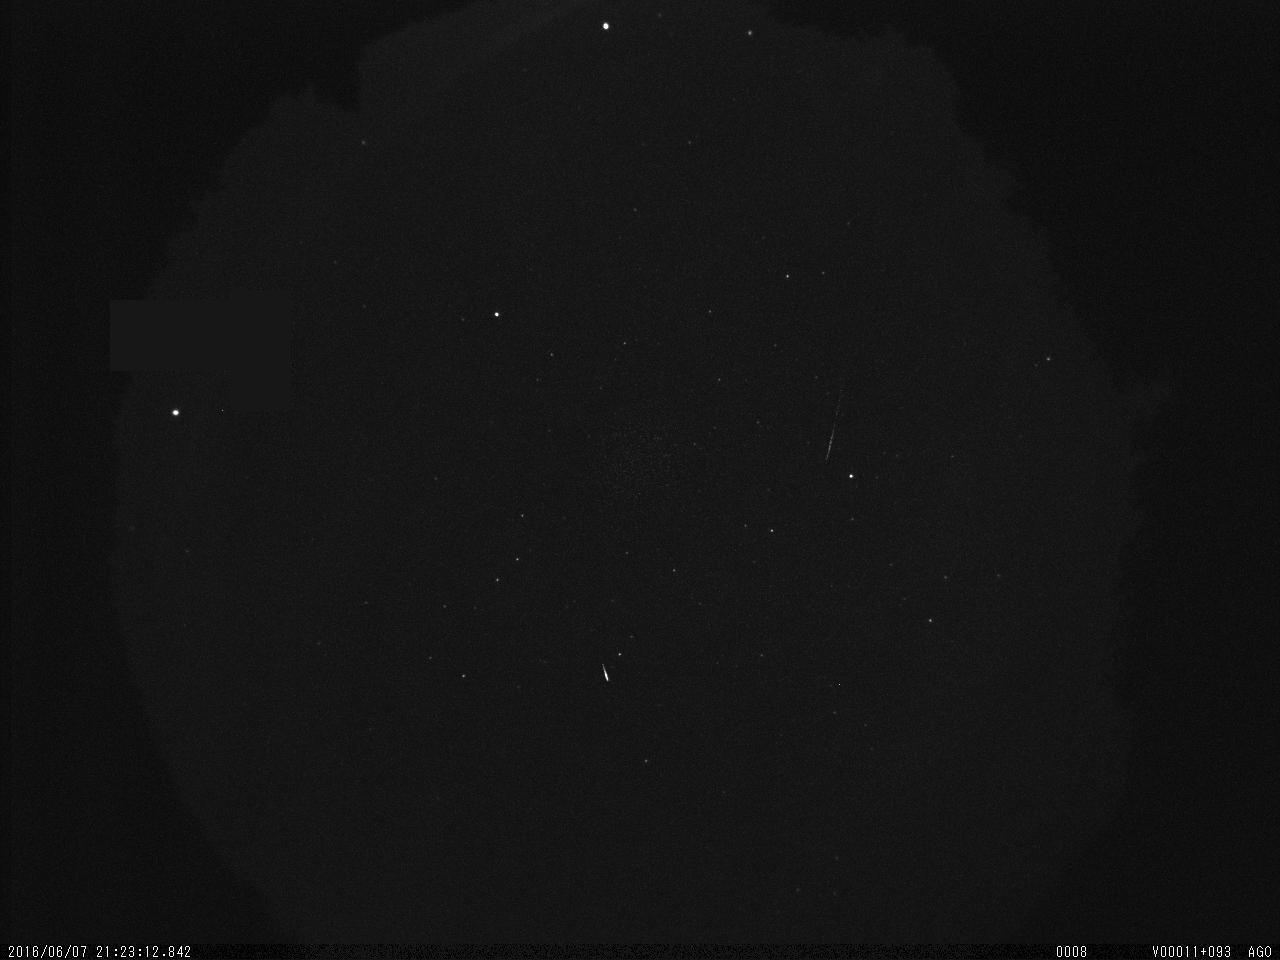meteor: (809, 373, 854, 467)
